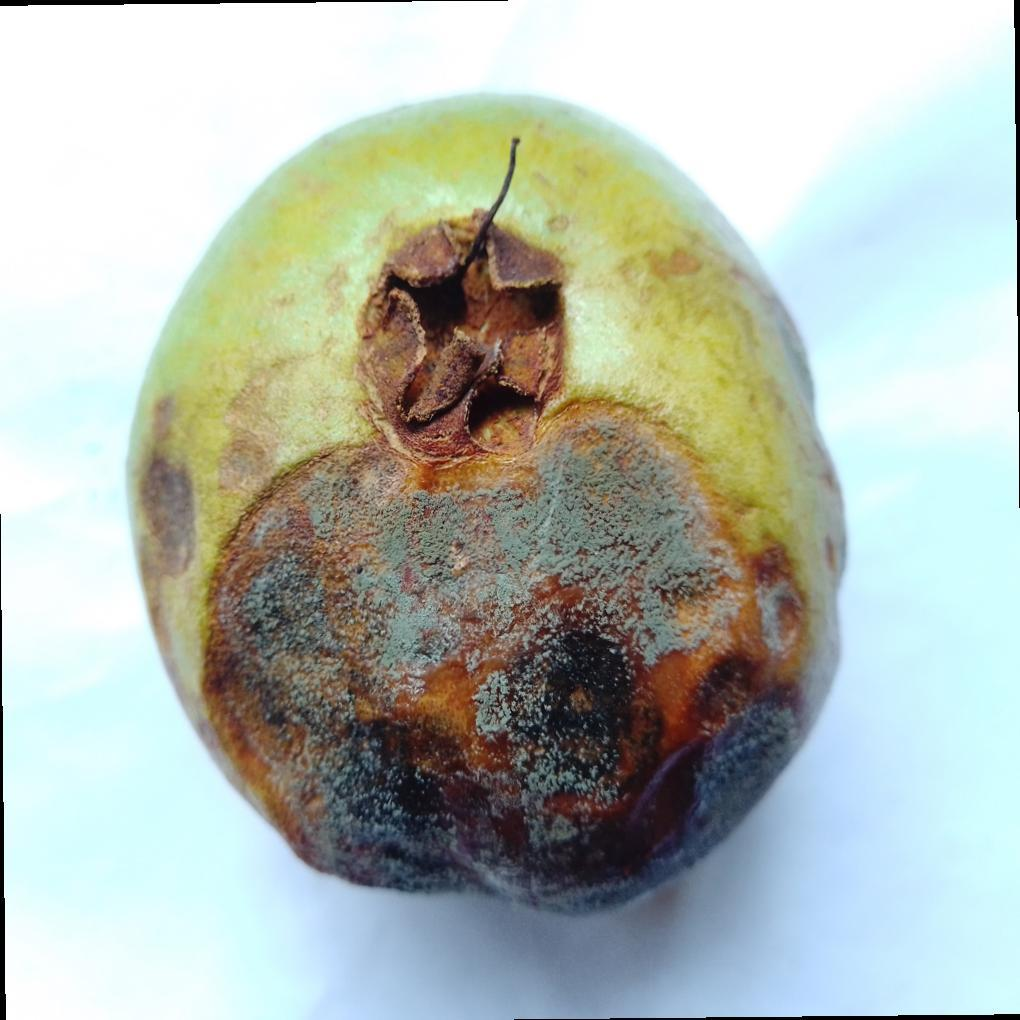FreshOrange: (126, 97, 850, 920)
